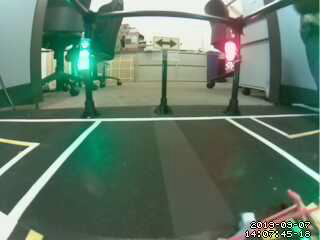Left_Right_sign: (151, 34, 183, 50)
Traffic_light_green: (78, 37, 96, 74)
Traffic_light_red: (219, 37, 241, 79)
